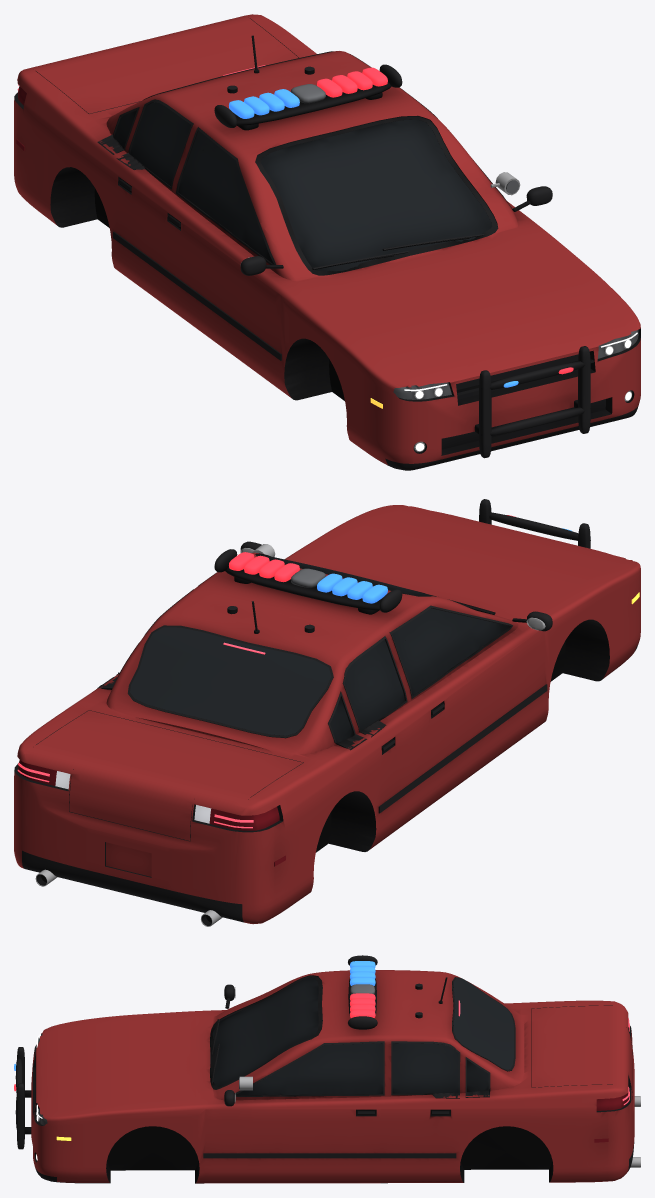
Rendered from marshal.m.glb.
The picture shows the model from 3 angles, top to bottom: view 1: azimuth 30°, elevation 25°; view 2: azimuth 150°, elevation 25°; view 3: azimuth 270°, elevation 25°; orthographic projection. The views are drawn at different scales.
Parts seen in each view (by area): view 1: paint_lodm, window_lodm, trim_lodm, head_lodm, grille_lodm, beaconB_lodm, beaconR_lodm; view 2: paint_lodm, trim_lodm, glass_lodm, window_lodm, tail_lodm, beaconB_lodm, beaconR_lodm, chrome_lodm; view 3: paint_lodm, window_lodm, trim_lodm, glass_lodm, beaconR_lodm, beaconB_lodm, chrome_lodm, tail_lodm, head_lodm.
Boxes of the visible parts, left/top/right/bottom form: paint_lodm: left=14, top=14, right=640, bottom=465; window_lodm: left=114, top=102, right=492, bottom=273; trim_lodm: left=14, top=18, right=640, bottom=470; head_lodm: left=291, top=84, right=638, bottom=452; grille_lodm: left=441, top=354, right=605, bottom=449; beaconB_lodm: left=229, top=89, right=518, bottom=387; beaconR_lodm: left=317, top=67, right=573, bottom=374; paint_lodm: left=14, top=505, right=640, bottom=924; trim_lodm: left=14, top=499, right=638, bottom=925; glass_lodm: left=130, top=627, right=331, bottom=735; window_lodm: left=261, top=555, right=509, bottom=743; tail_lodm: left=18, top=760, right=285, bottom=866; beaconB_lodm: left=317, top=528, right=571, bottom=603; beaconR_lodm: left=229, top=515, right=515, bottom=582; chrome_lodm: left=35, top=544, right=545, bottom=926; paint_lodm: left=31, top=970, right=634, bottom=1183; window_lodm: left=212, top=977, right=488, bottom=1095; trim_lodm: left=15, top=955, right=634, bottom=1183; glass_lodm: left=453, top=978, right=513, bottom=1069; beaconR_lodm: left=14, top=993, right=375, bottom=1091; beaconB_lodm: left=14, top=961, right=375, bottom=1070; chrome_lodm: left=36, top=987, right=640, bottom=1167; tail_lodm: left=594, top=1092, right=628, bottom=1142; head_lodm: left=38, top=984, right=375, bottom=1125.
Size of what is drawn, in the model's own units: 2.25 by 1.48 by 5.23.
